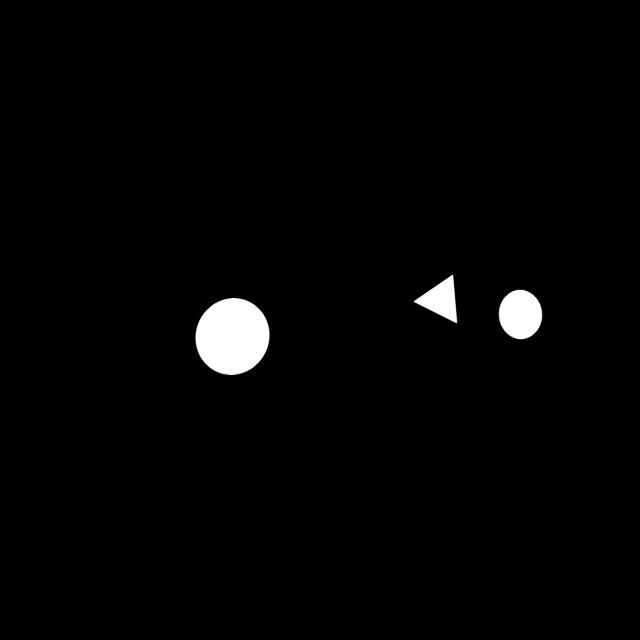Circle: (185, 291, 278, 380), (494, 282, 548, 348)
Triangle: (406, 262, 466, 336)
